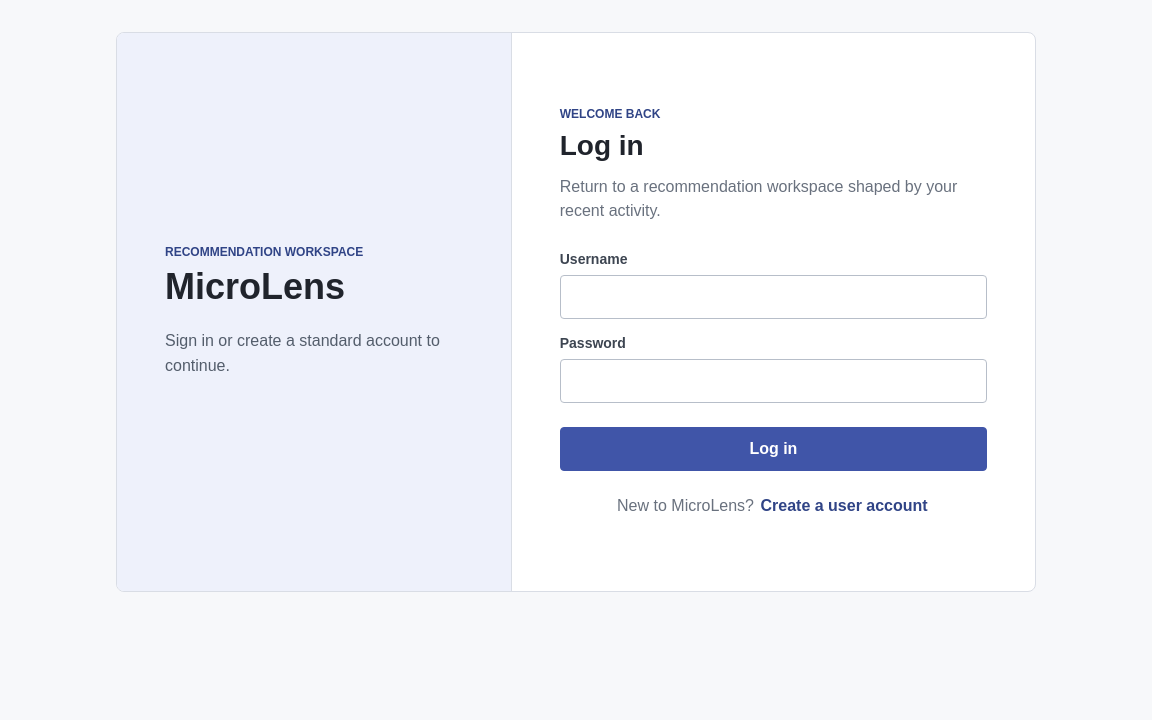
session hydration and protected routing › never restores an external intended destination
This screenshot has width=1152, height=720.
Expected: the heading "Log in" is shown, top-left (560, 130), bottom-right (644, 161)
Step 1. Type "operator-demo" into the field labelled "Username" → (773, 297), box top-left (560, 275), bottom-right (987, 319)
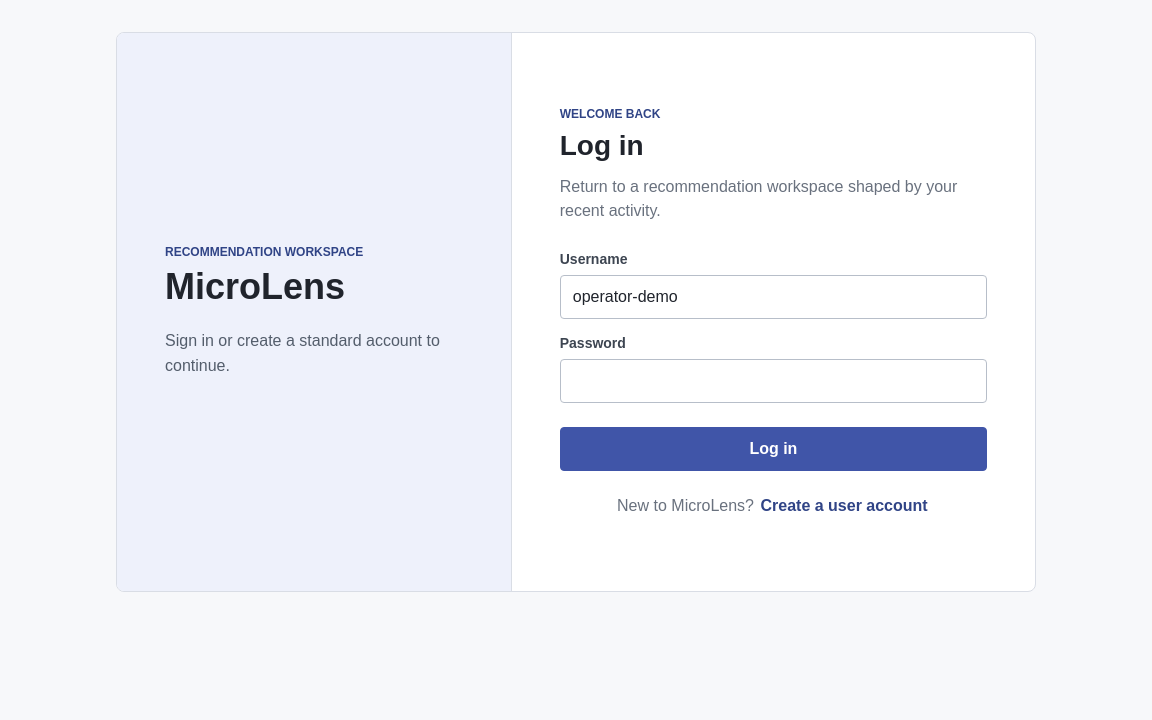
Step 2. Type "secure-password" into the password field labelled "Password" → (773, 381), box top-left (560, 359), bottom-right (987, 403)
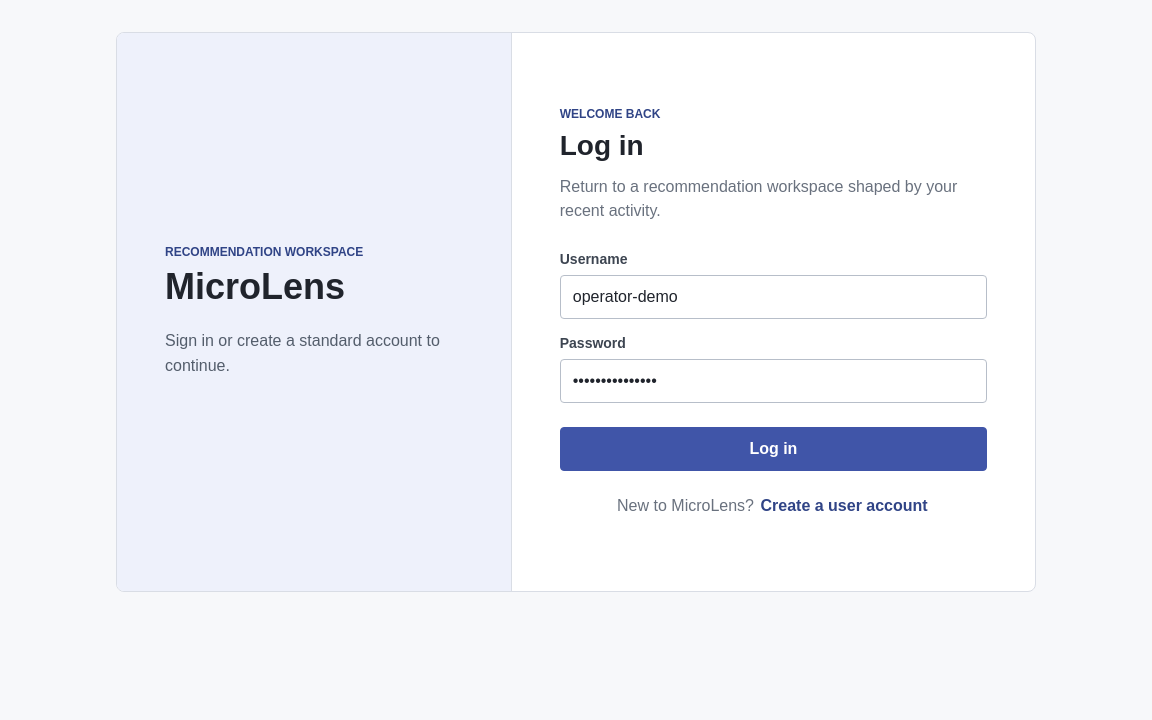
Step 3. Click the button "Log in" → (773, 449), box top-left (560, 427), bottom-right (987, 471)
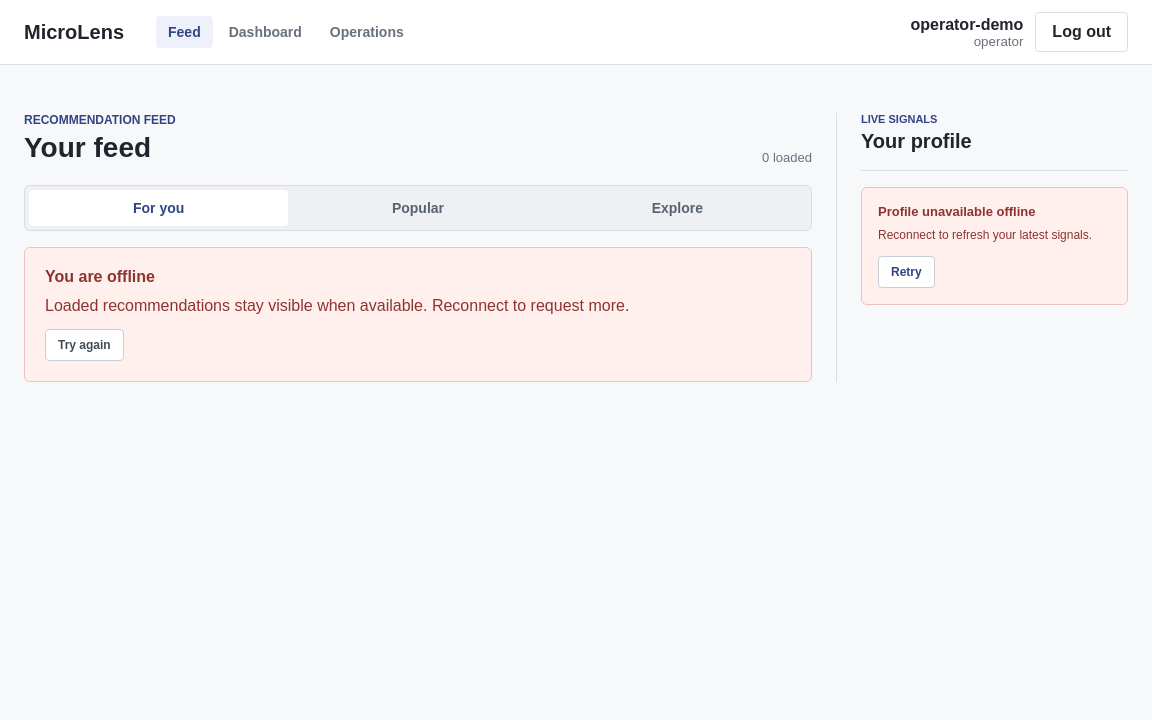
Expected: the heading "Your feed" is shown, top-left (24, 132), bottom-right (151, 163)
